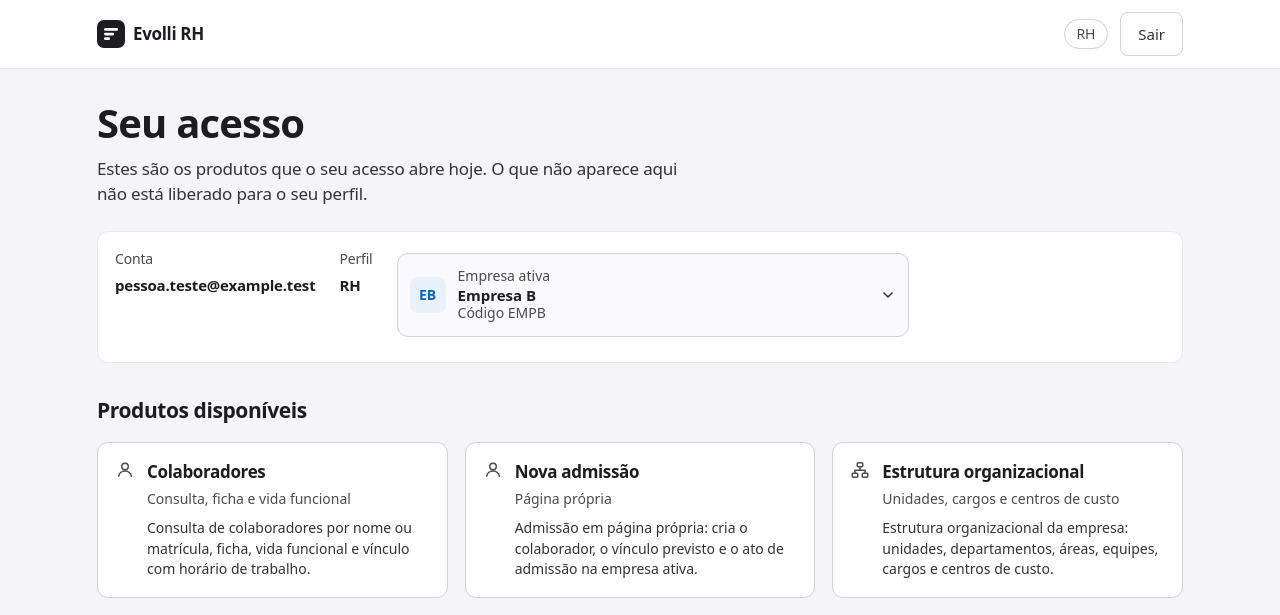
Test: T163/T189 — quem troca de empresa, e quem não troca › rh vê a empresa ativa e, aberto, as autorizadas com a atual marcada
This screenshot has width=1280, height=615.
What coordinates should you click on to do the following:
click the button "EB Empresa ativa Empresa B Código EMPB"
I would click on:
 (428, 295)
Its box is [396,253,908,337].
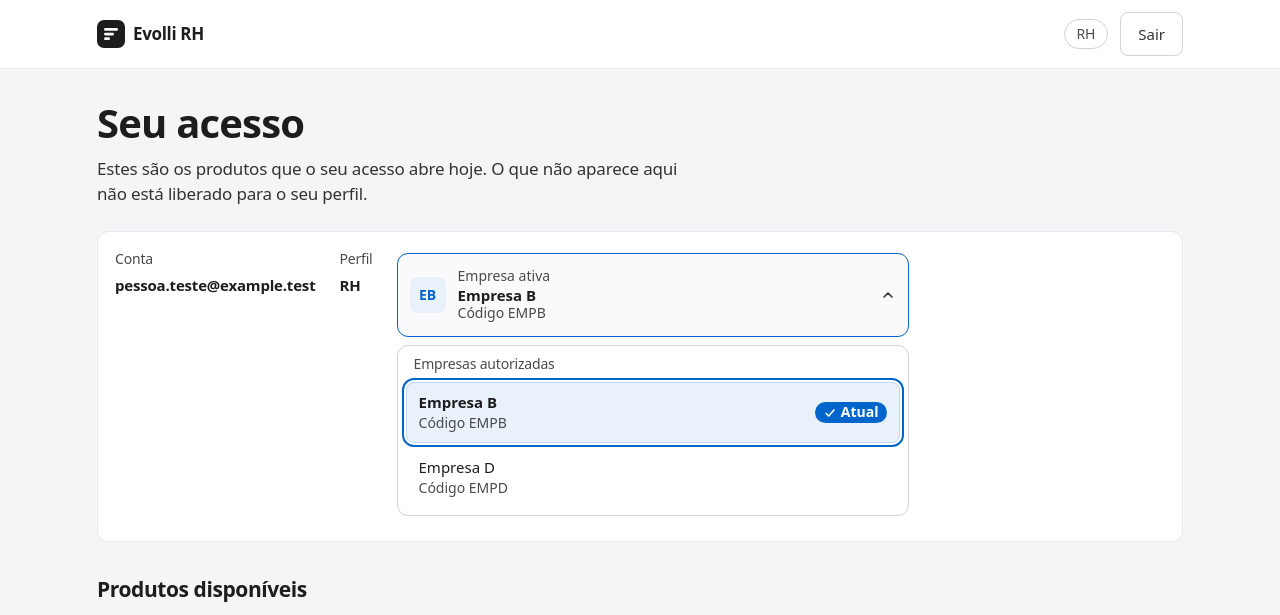
Check: the list named "Empresas autorizadas" is shown, box [406,382,900,508]
